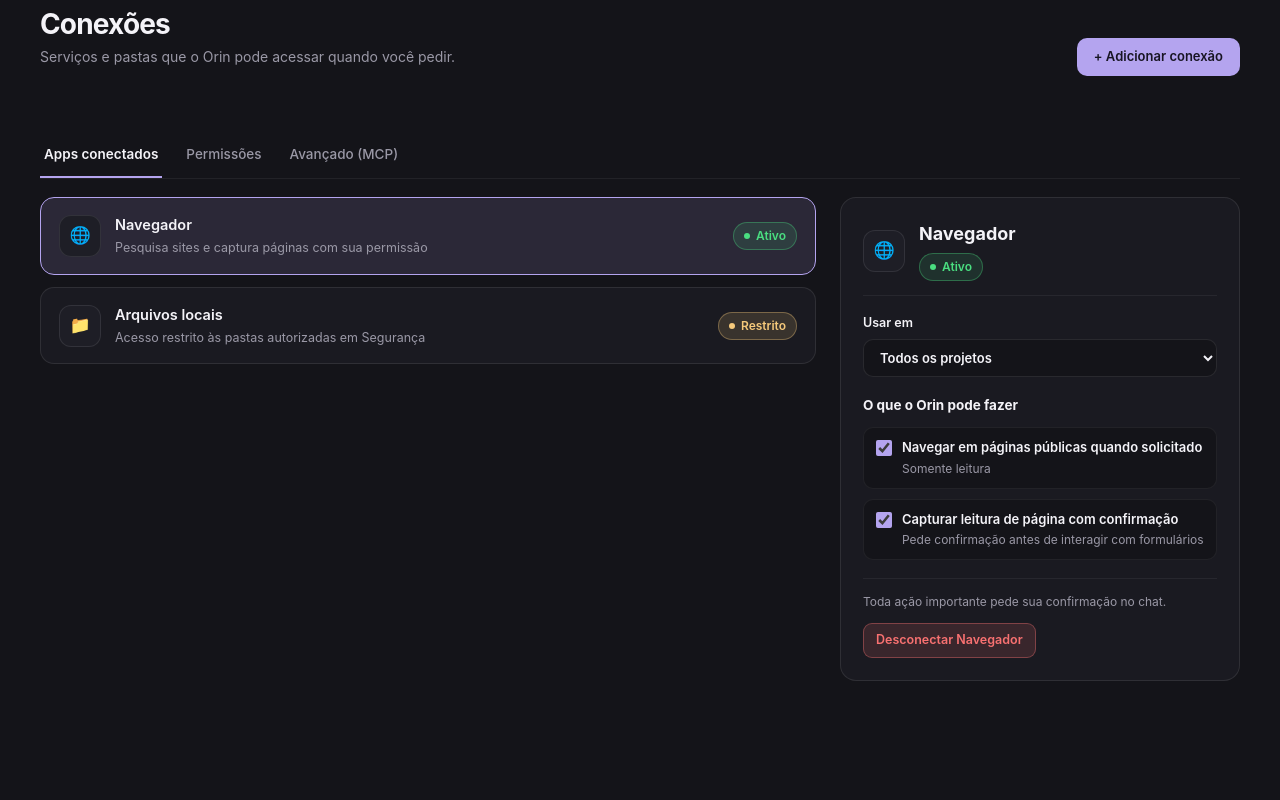
Test: Connections (McpSection) — Phase 6 (ref-13.png) › renders the right-hand inspector with Navegador selected by default, honest capability permissions, and disconnect button
Check: the heading "Navegador" is shown, box [919,220,1016,247]
Check: the 2nd text "Ativo" is shown, box [919,253,983,281]
Select "Apenas no projeto atual" in the dropdown labelled "Usar em": (1040, 358) [863,339,1217,377]
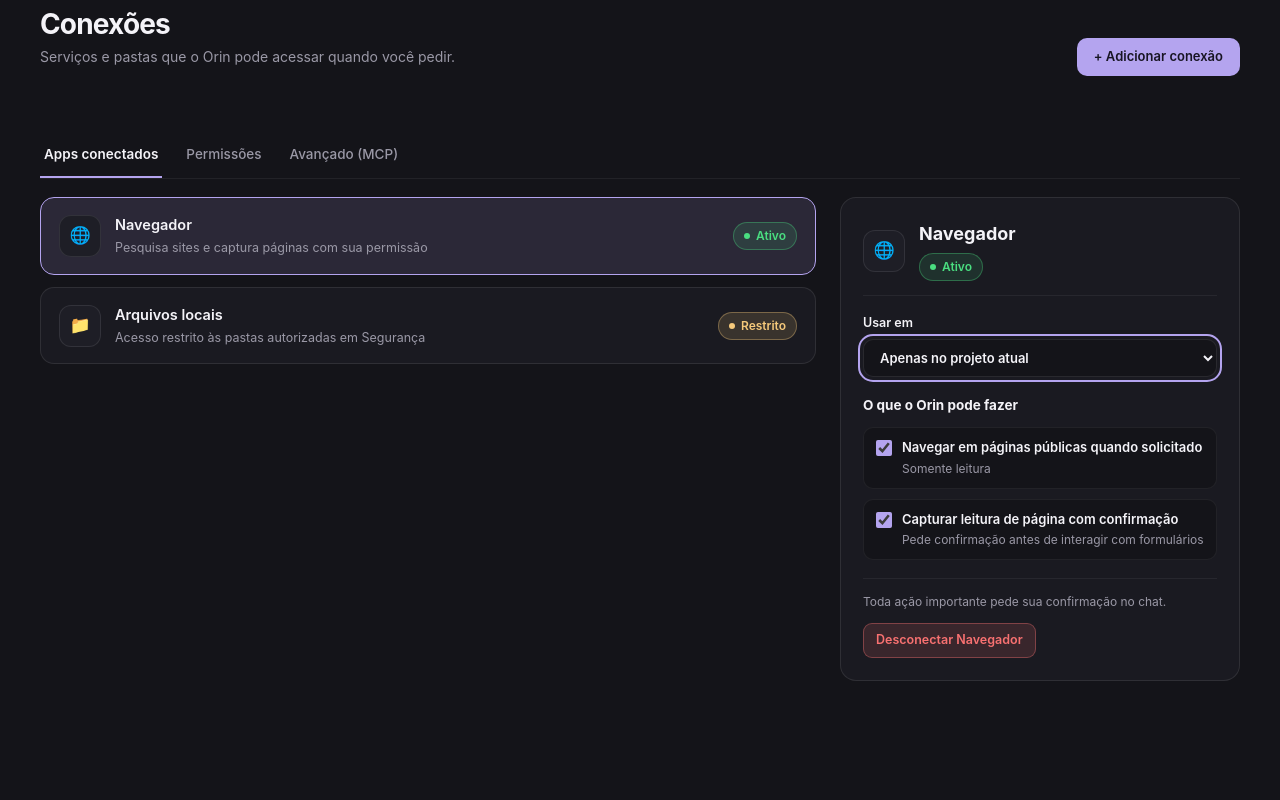
Check: the heading "O que o Orin pode fazer" is shown, box [863,397,1018,413]
Check: the checkbox labelled "Navegar em páginas públicas quando solicitado" is checked, box [876,440,892,456]
# Toggling a checkbox updates checked state immediately
Click the checkbox labelled "Capturar leitura de página com confirmação": (884, 520) [876,512,892,528]
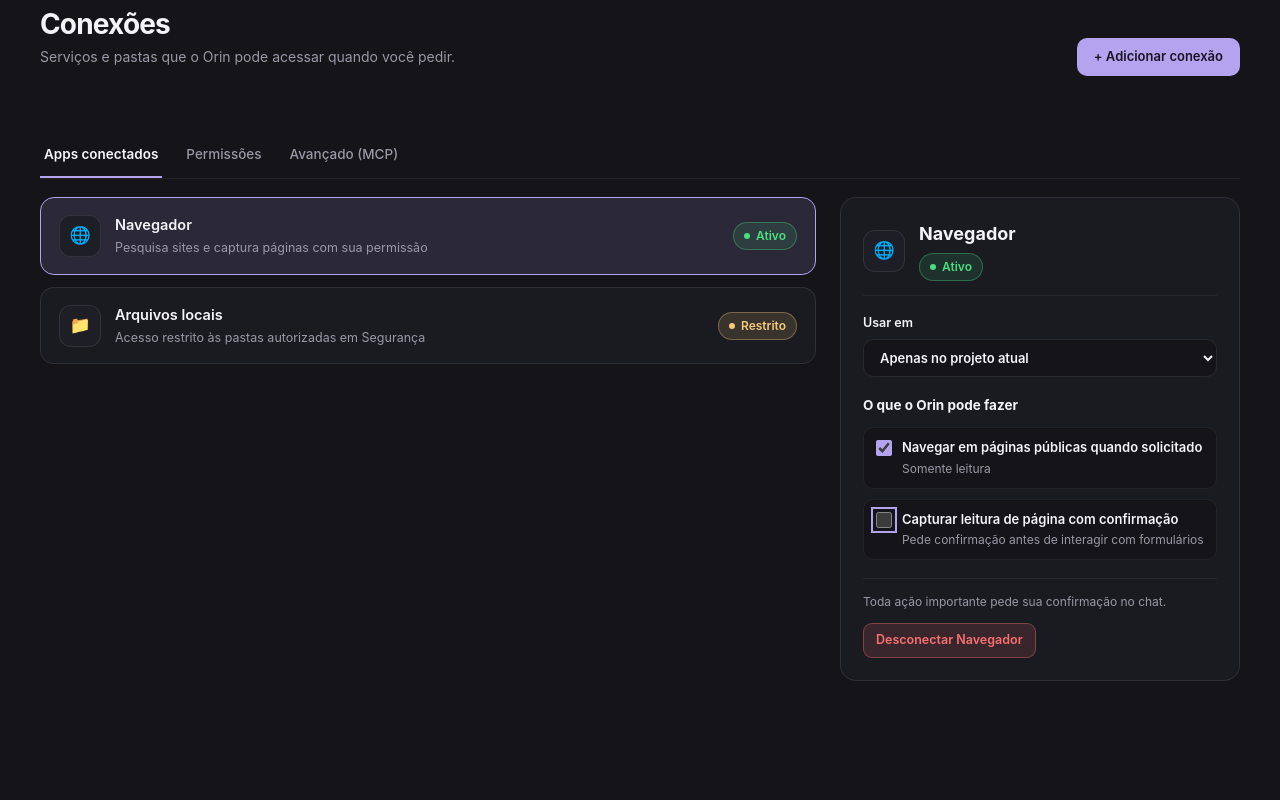
Check: the text "Toda ação importante pede sua confirmação no chat." is shown, box [863,593,1166,611]
Check: the checkbox labelled "Capturar leitura de página com confirmação" is not checked, box [876,512,892,528]
# Selecting Arquivos locais updates the inspector with file permissions
Click the text "Arquivos locais": (169, 314) [115,306,223,323]
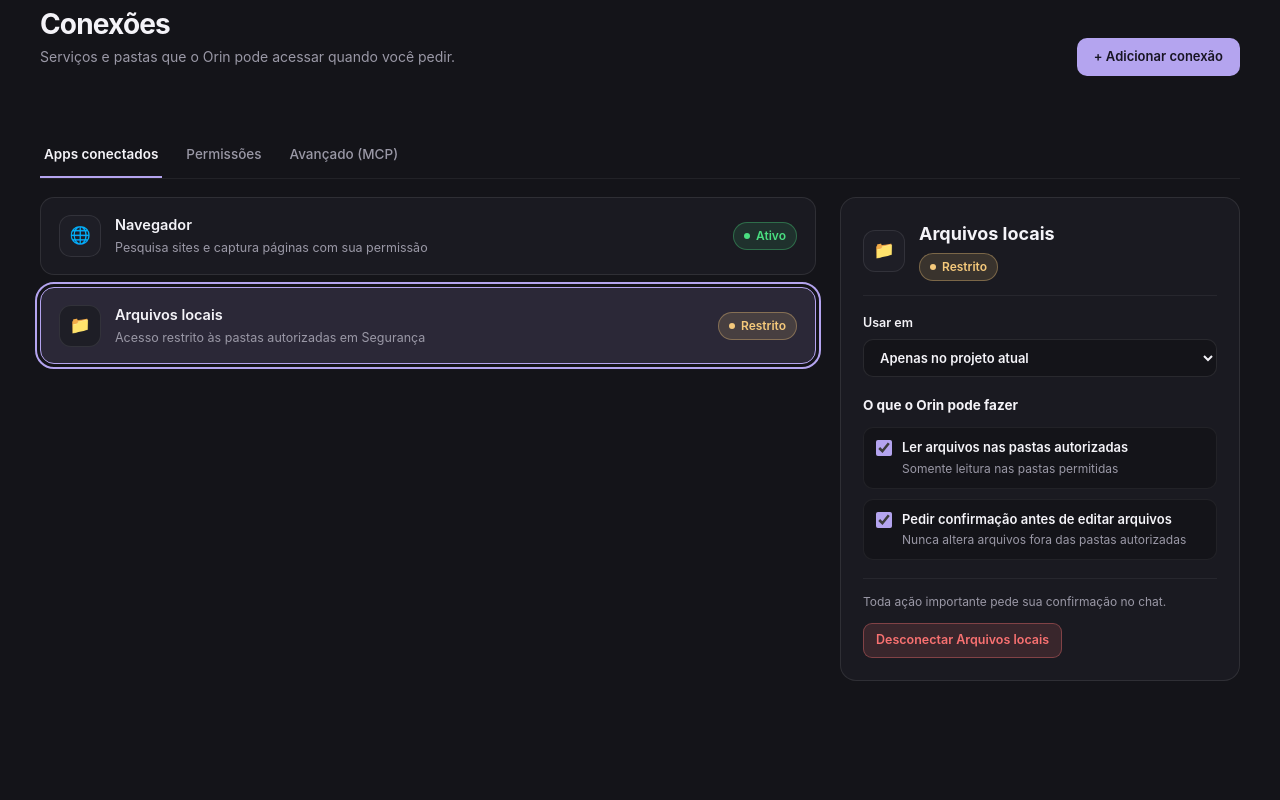
Check: the heading "Arquivos locais" is shown, box [919,220,1055,247]
Check: the checkbox labelled "Pedir confirmação antes de editar arquivos" is checked, box [876,512,892,528]
Check: the button with test id "connections-disconnect-button" reads "Desconectar Arquivos locais", box [863,623,1062,658]
